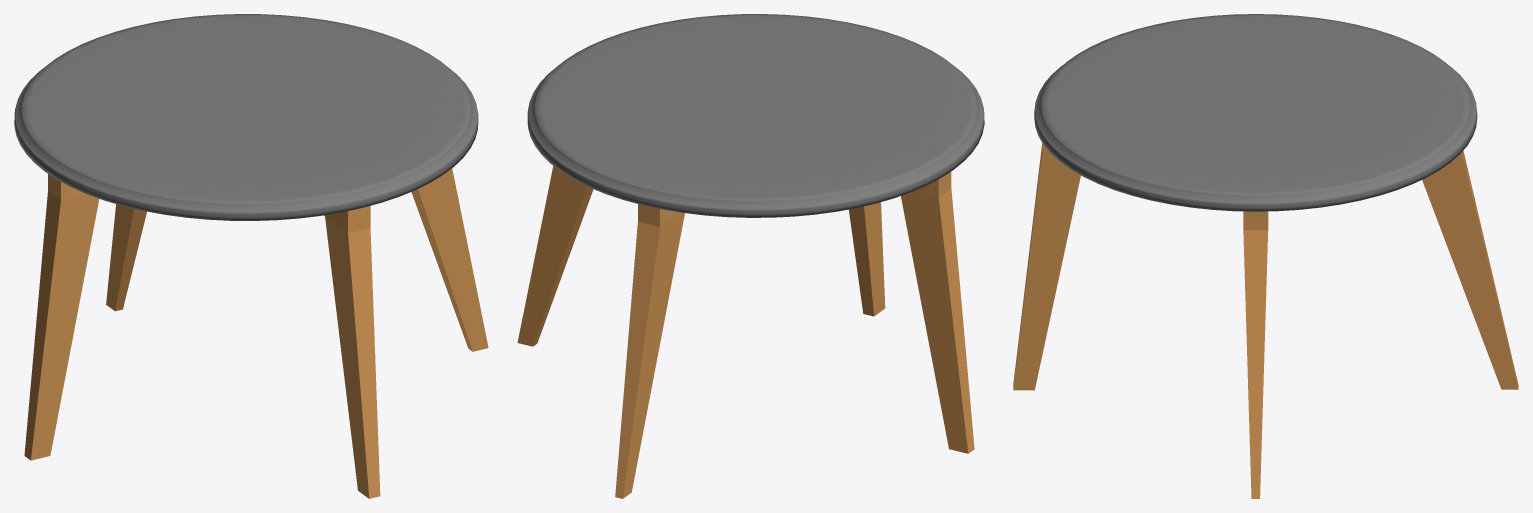
The model's file is Mesa.glb.
The picture shows the model from 3 angles, left to right: view 1: azimuth 30°, elevation 25°; view 2: azimuth 150°, elevation 25°; view 3: azimuth 270°, elevation 25°; orthographic projection. The views are drawn at different scales.
Parts seen in each view (by area): view 1: Circle, Cube; view 2: Circle, Cube; view 3: Circle, Cube.
Boxes of the visible parts, x1,y1,x2,y2 form: Circle: [14, 14, 478, 220]; Cube: [24, 168, 488, 498]; Circle: [527, 14, 984, 217]; Cube: [517, 166, 974, 498]; Circle: [1034, 14, 1477, 211]; Cube: [1013, 143, 1518, 498].
Size of the model in its own units: 2.27 by 1.4 by 2.27.
